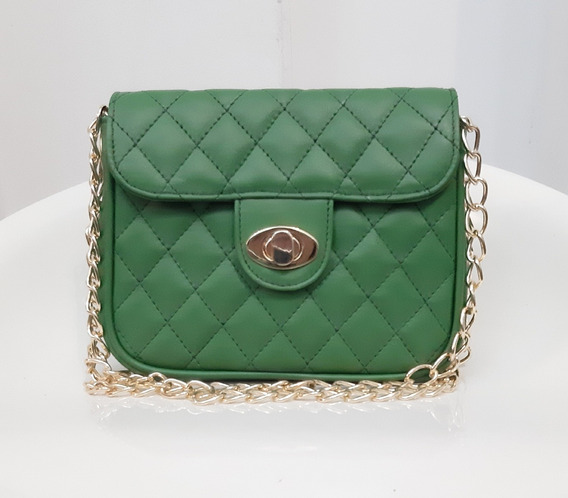cartera: (83, 84, 474, 383)
